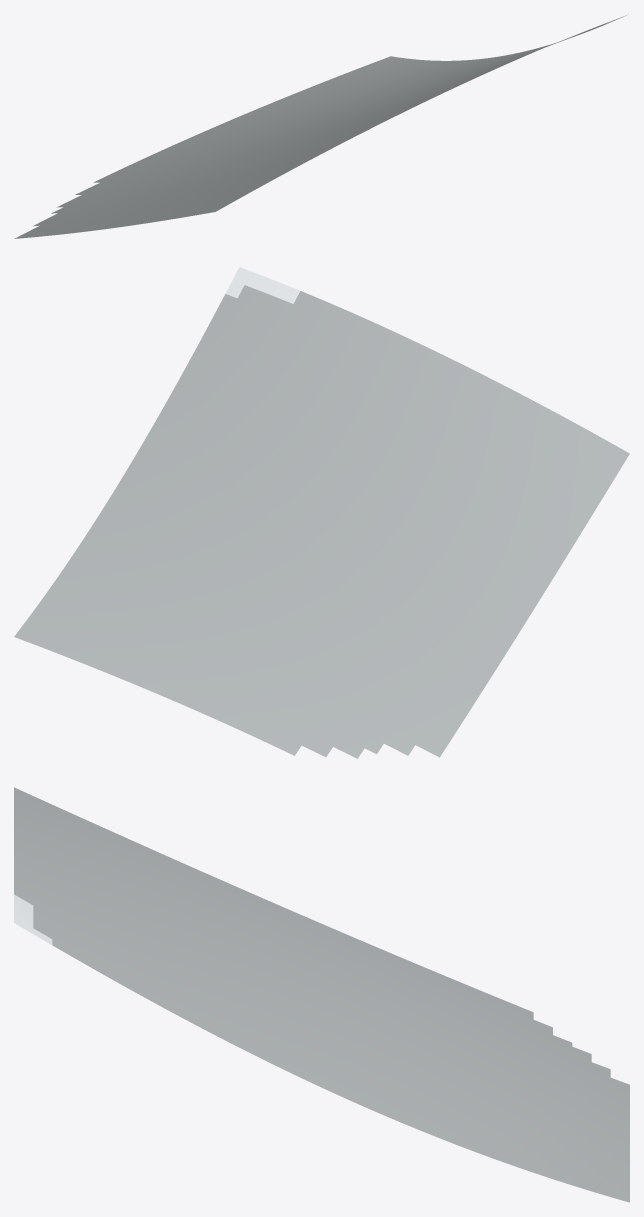
Rendered from alpine-7-4.glb.
The picture shows the model from 3 angles, top to bottom: view 1: azimuth 30°, elevation 25°; view 2: azimuth 150°, elevation 25°; view 3: azimuth 270°, elevation 25°; orthographic projection. The views are drawn at different scales.
Parts seen in each view (by area): view 1: alpine-7-4; view 2: alpine-7-4; view 3: alpine-7-4.
Part boxes in pixels (box(x1,y1,x2,y2)): alpine-7-4: box(14, 14, 628, 238); alpine-7-4: box(14, 267, 629, 758); alpine-7-4: box(14, 787, 629, 1202).
Bounding box in the file's own units: 256 × 161 × 256.
2 materials, 2 textured.
